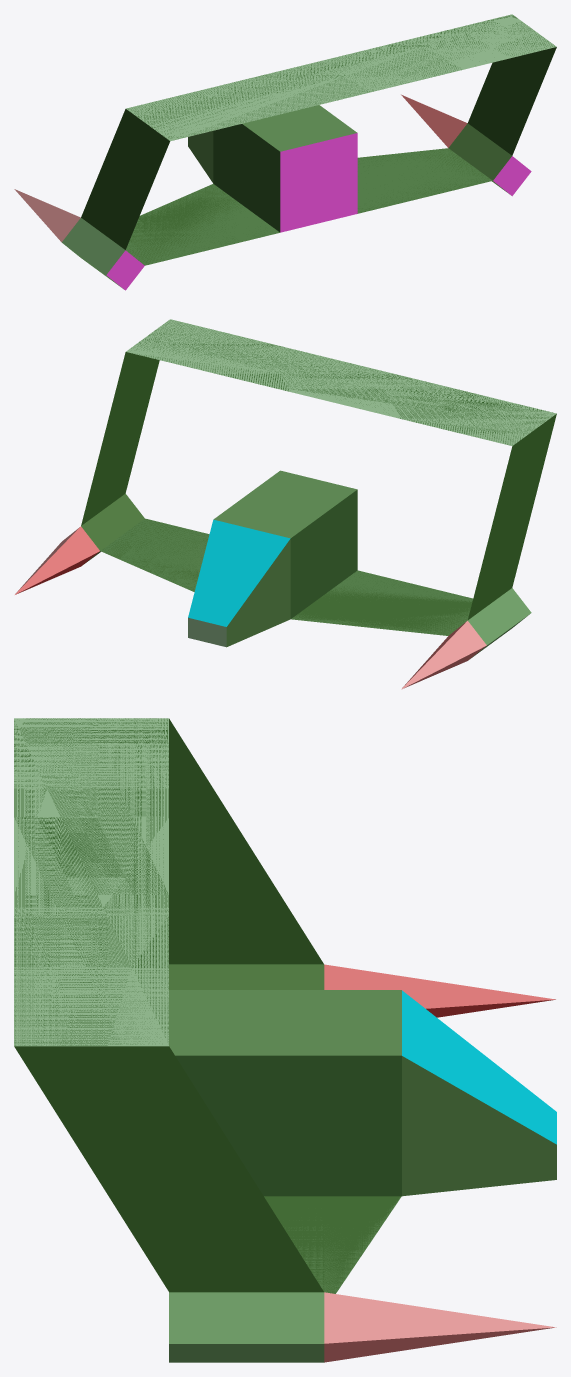
Rendered from ship.obj.
The picture shows the model from 3 angles, top to bottom: view 1: azimuth 30°, elevation 25°; view 2: azimuth 150°, elevation 25°; view 3: azimuth 270°, elevation 25°; orthographic projection. The views are drawn at different scales.
Parts seen in each view (by area): view 1: FIRST3D; view 2: FIRST3D; view 3: FIRST3D.
Part boxes in pixels (<box>): FIRST3D: <box>14,14,556,290</box>; FIRST3D: <box>15,319,556,689</box>; FIRST3D: <box>14,718,556,1362</box>.
Bounding box in the file's own units: 176 × 72 × 112.
